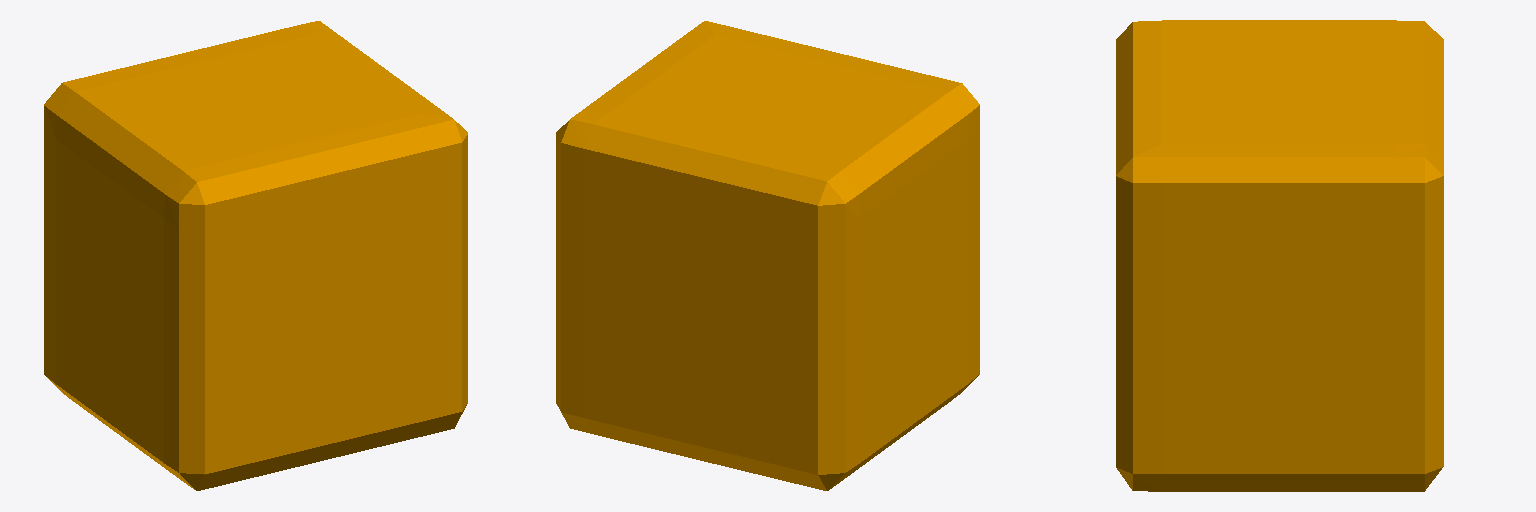
URDF robot description (cylinder_box_80):
<?xml version="1.0" encoding="utf-8"?>  <robot name="cylinder_box_80">   <link name="cylinder_box_80">     <visual>       <geometry>         <mesh filename="../meshes/box/box_80.stl" scale="1 1 1"/>       </geometry>     </visual>     <collision>       <geometry>         <mesh filename="../meshes/box/box_80.stl" scale="1 1 1"/>       </geometry>     </collision>     <inertial>        <origin         xyz="0 0 0"         rpy="0 0 0" />       <mass value="0.21725647234024"/>       <origin rpy="0 0 0" xyz="0 0 0"/>       <inertia ixx="0.0001270545054085816" ixy="2.5617365159915652e-08" ixz="3.0313166259156845e-08" iyy="0.00013918786157803817" iyz="-2.3360825903784886e-08" izz="0.0001241092754883475"/>     </inertial>   </link>  </robot>

--- What the picture shows (computed from the rendered views, not written in the file) ---
3 views of the same robot in one strip: view 1: azimuth 30°, elevation 25°; view 2: azimuth 150°, elevation 25°; view 3: azimuth 270°, elevation 25° (orthographic).
Model cylinder_box_80 with 1 links and 0 joints (none), rooted at cylinder_box_80, posed every joint at zero.
Links seen in each view (by area): view 1: cylinder_box_80; view 2: cylinder_box_80; view 3: cylinder_box_80.
Boxes of the visible links, x1=… form: cylinder_box_80: x1=44, y1=21, x2=467, y2=490; cylinder_box_80: x1=556, y1=21, x2=979, y2=490; cylinder_box_80: x1=1116, y1=20, x2=1443, y2=491.
Size in the robot's own frame: 0.0621 by 0.0563 by 0.0635 metres.
Meshes: 1 distinct files referenced, 1 mesh visuals loaded (1 binary STL).